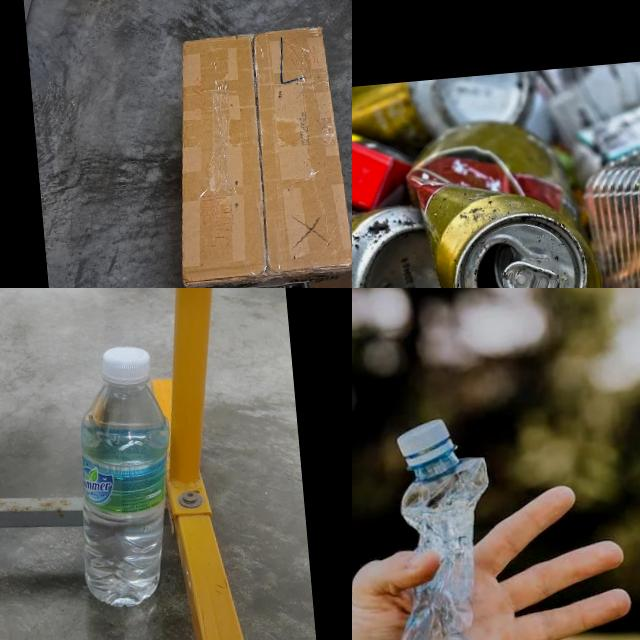aba de lata: (498, 255, 560, 288)
garrafa plástica: (360, 446, 510, 640), (64, 375, 185, 613)
lata: (398, 109, 607, 288), (352, 69, 544, 168), (352, 165, 467, 288)
papelão: (156, 24, 352, 288)
tampa plástica: (394, 416, 452, 461), (99, 344, 154, 391)
